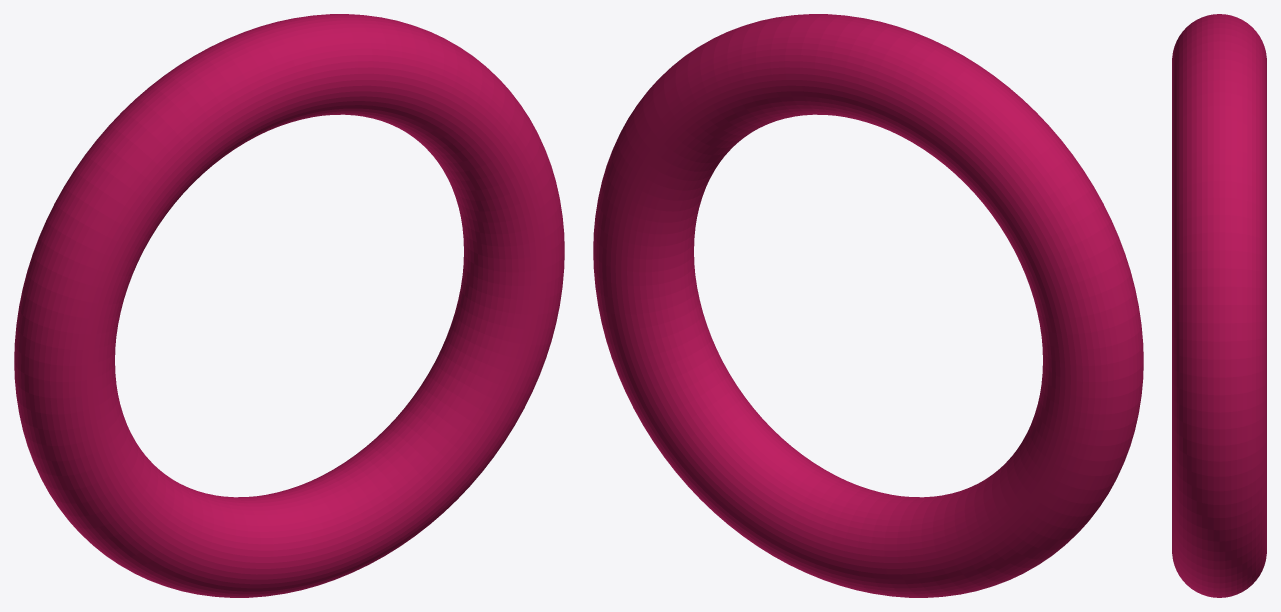
3 views of the same model, side by side, from view 1: azimuth 30°, elevation 25°; view 2: azimuth 150°, elevation 25°; view 3: azimuth 270°, elevation 25° (orthographic). The views are drawn at different scales.
Parts seen in each view (by area): view 1: world; view 2: world; view 3: world.
Part boxes in pixels (x1,y1,x2,y2): world: (14,14,564,597); world: (593,14,1143,597); world: (1172,14,1266,597).
Size of the model in its own units: 27.07 by 27.07 by 4.39.
